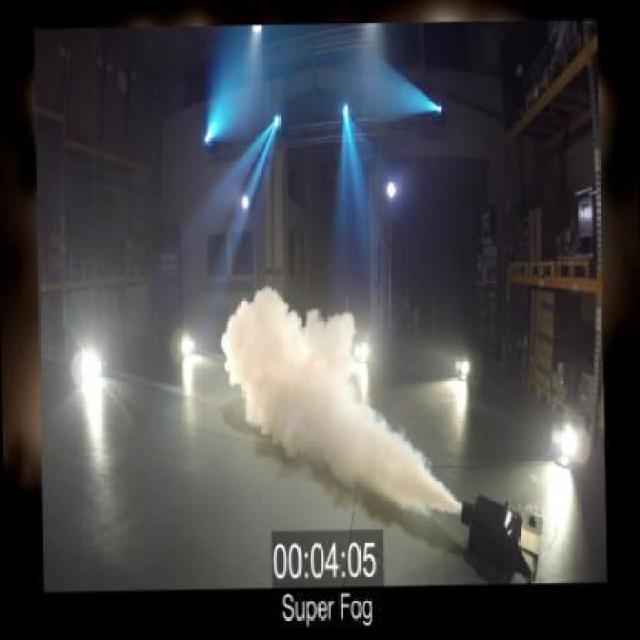fire: (216, 279, 437, 519)
